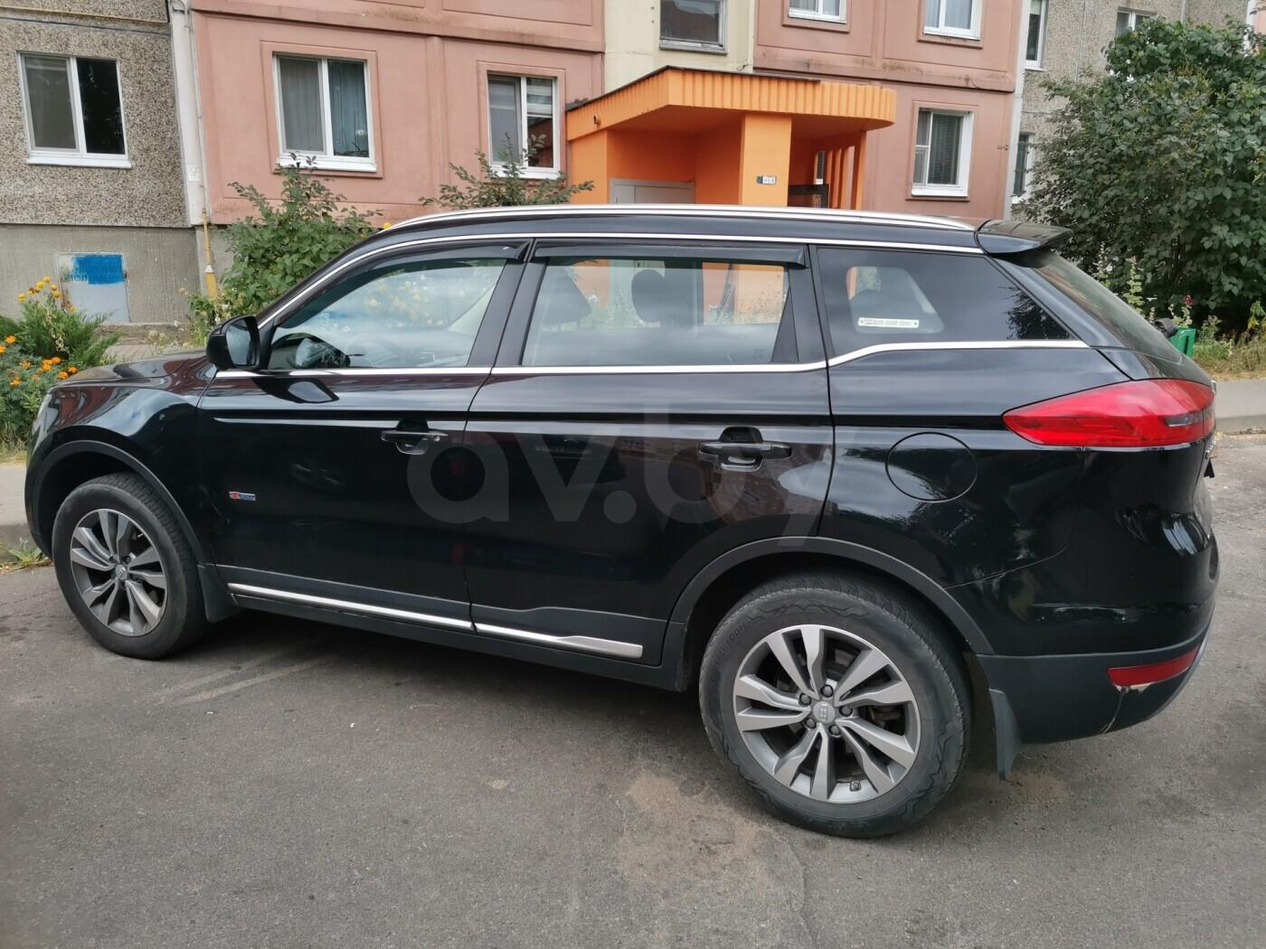Atlas_2016-2023: (21, 190, 1226, 841)
